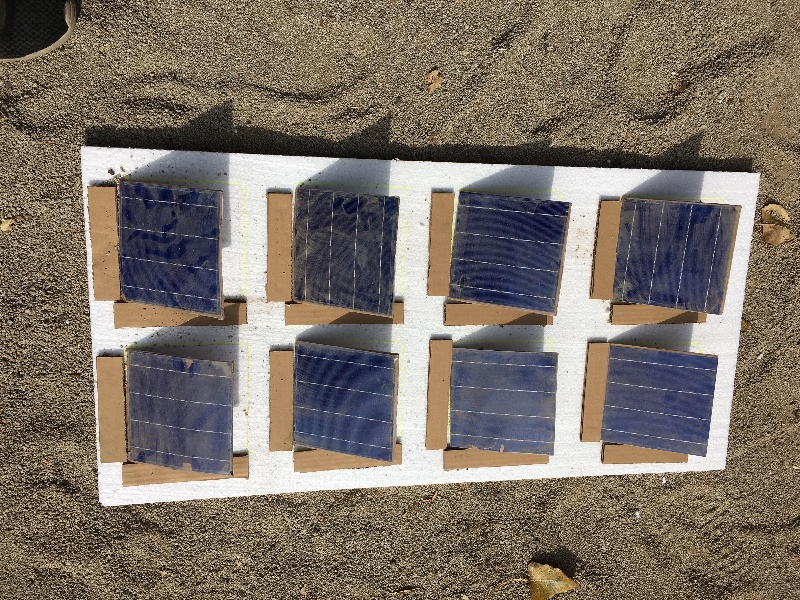dirty: (121, 353, 235, 476), (293, 189, 396, 316), (609, 348, 713, 455), (449, 351, 558, 453)
semi: (612, 199, 742, 317), (113, 181, 222, 314), (452, 190, 570, 307), (296, 343, 395, 460)
